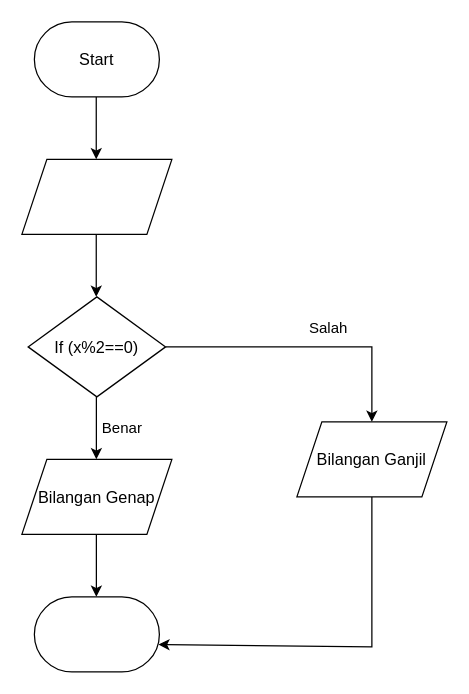
This 469x694 diagram has some shape labels left out. Here are the shapes that lost their labels. From the top down, the centre of each, then its label:
At pixel 96 196: "Input x".
At pixel 96 634: "End".
